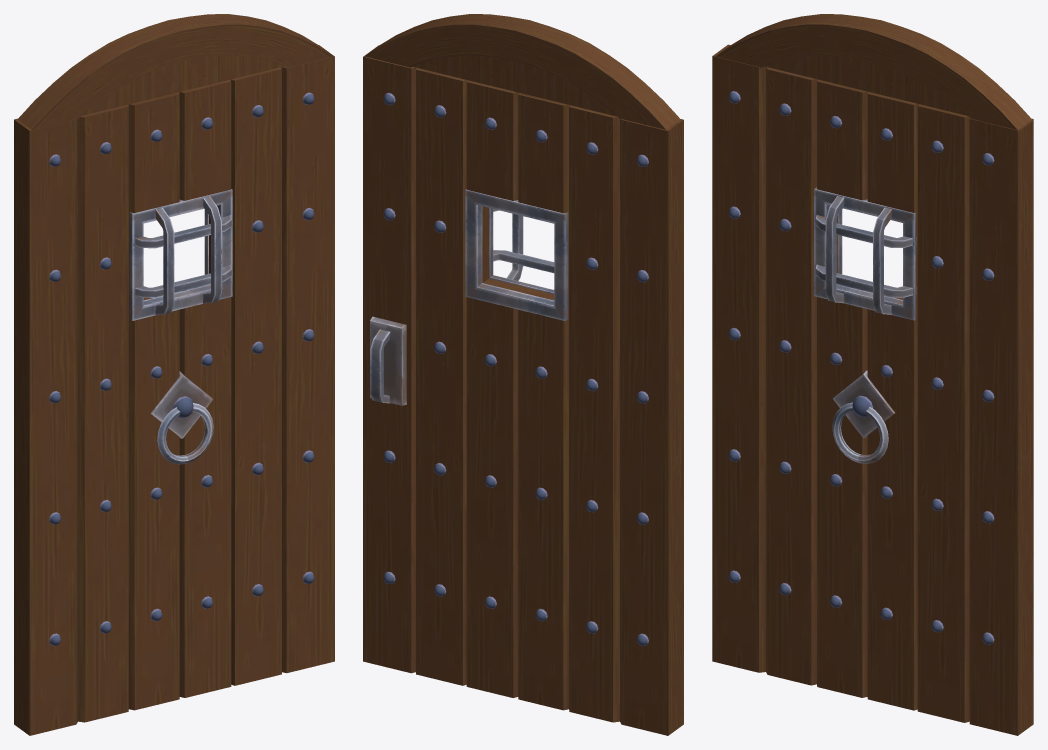
Rendered from Door_2_Round.glb.
The picture shows the model from 3 angles, left to right: view 1: azimuth 30°, elevation 25°; view 2: azimuth 150°, elevation 25°; view 3: azimuth 330°, elevation 25°; orthographic projection.
Parts seen in each view (by area): view 1: Door_2_Round; view 2: Door_2_Round; view 3: Door_2_Round.
Part boxes in pixels (bbox=[...]): Door_2_Round: bbox=[14, 14, 334, 735]; Door_2_Round: bbox=[363, 14, 683, 735]; Door_2_Round: bbox=[712, 14, 1033, 735].
Bounding box in the file's own units: 1.12 × 2.33 × 0.2609.
2 materials, 2 textured.
